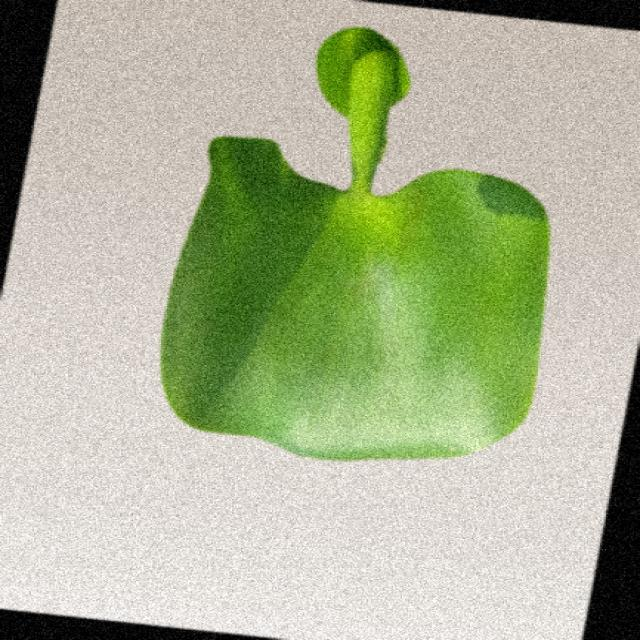daun sehat: (162, 28, 550, 459)
